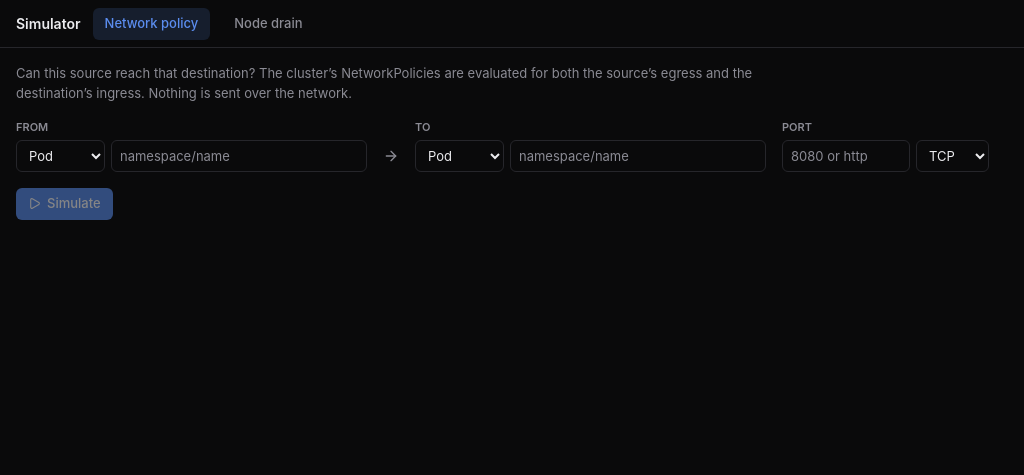
Simulator › sends the query and shows which policy blocks the traffic
Type "shop/web" into the field named "From name".
click(239, 156); type("shop/web")  # box [111,140,367,172]
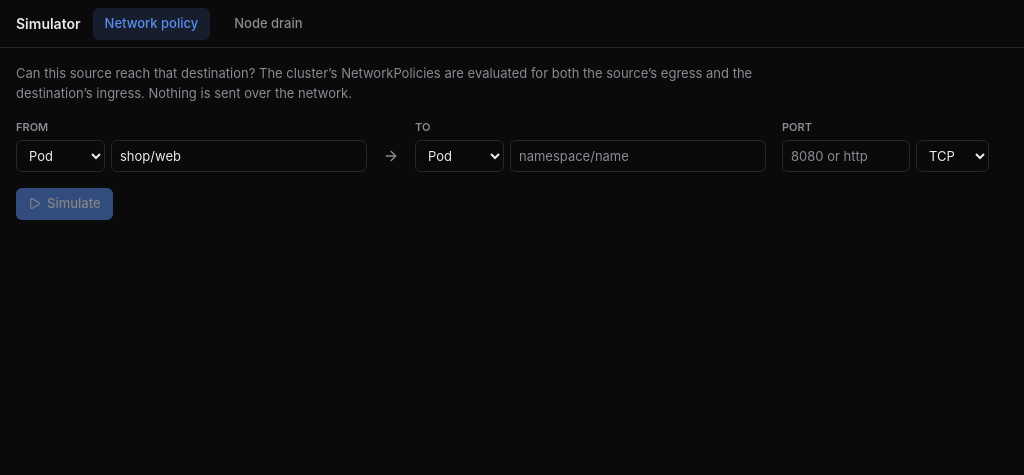
Type "shop/db" into the field named "To name".
click(638, 156); type("shop/db")  # box [510,140,766,172]
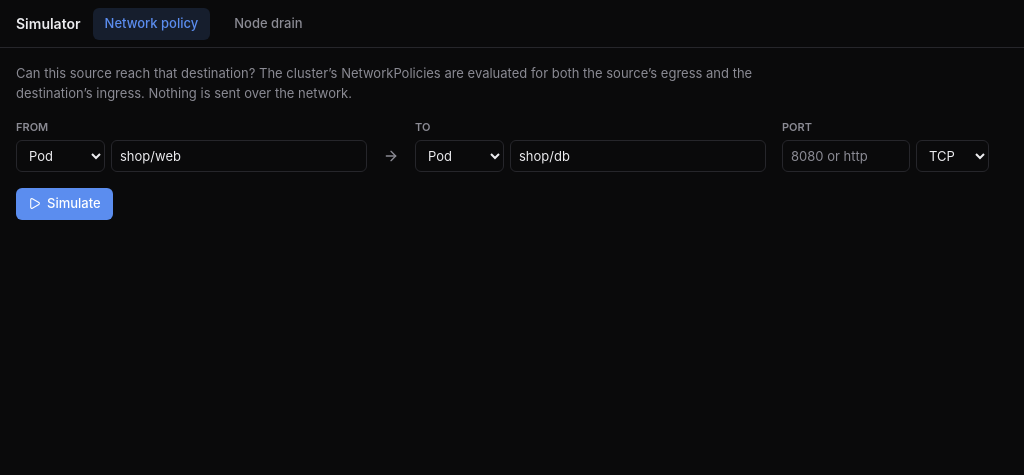
Type "5432" into the field named "Port".
click(846, 156); type("5432")  # box [782,140,910,172]
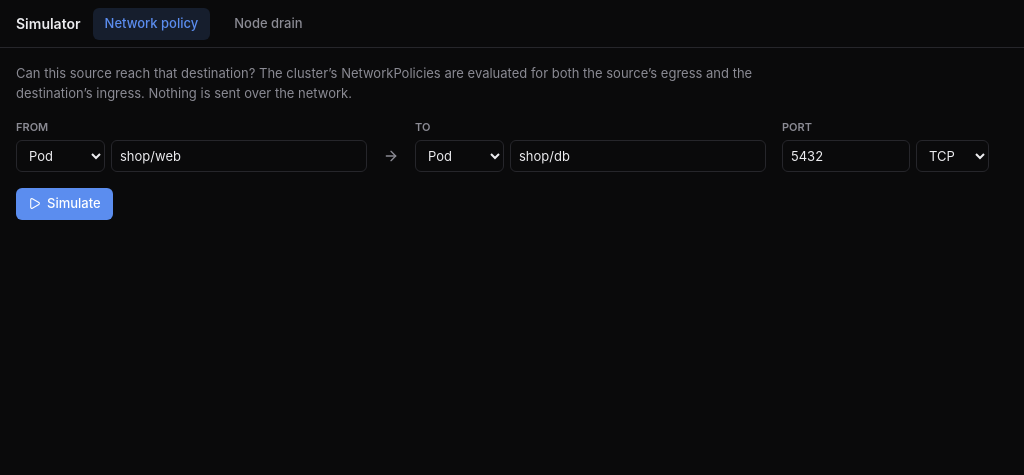
Click the button "Simulate".
click(64, 204)  # box [16,188,113,220]
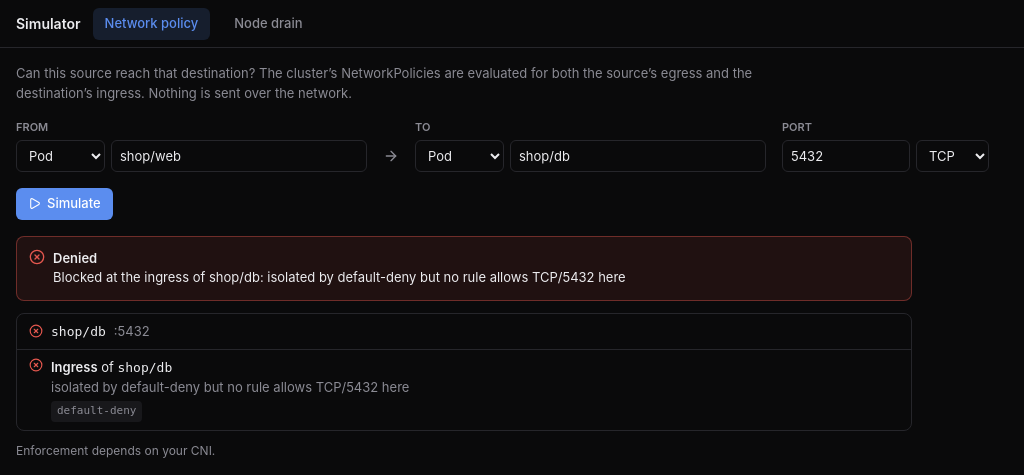
Expected: the text "denied" is shown, [53,250,97,266]
Expected: the text "default-deny" is shown, [51,401,142,422]
Expected: the text "Enforcement depends on your CNI." is shown, [16,442,215,458]
